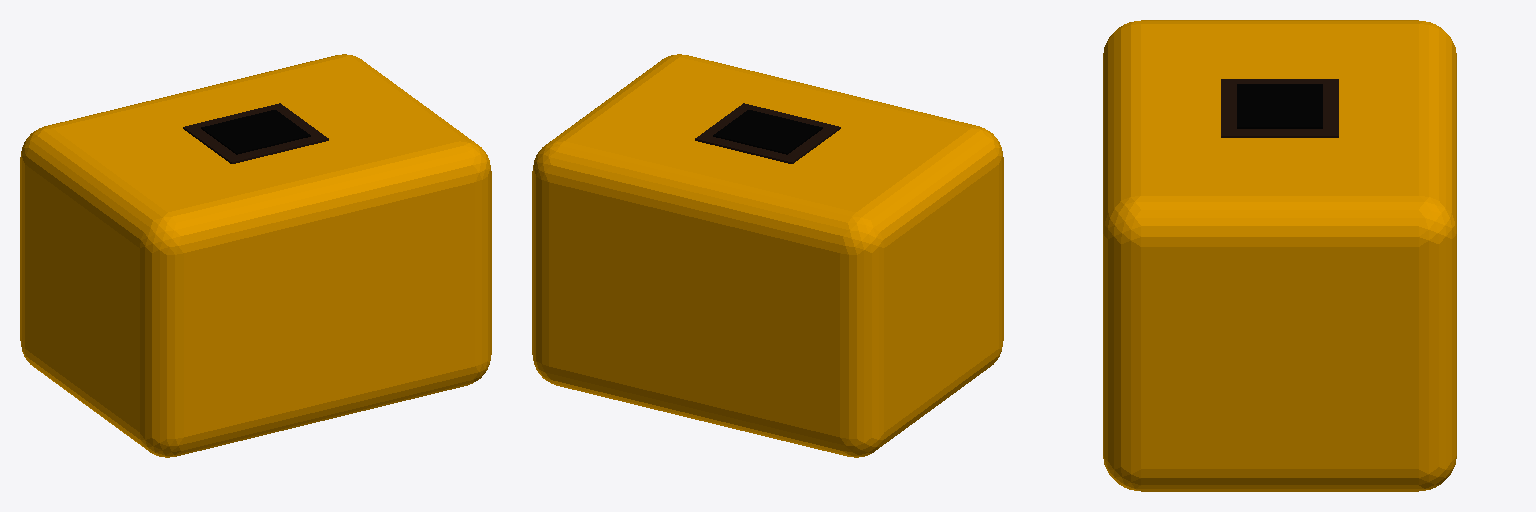
URDF robot description (key_stand):
<?xml version="1.0"?>
<!-- Generated by tools/build_assets.py - do not edit. -->
<robot name="key_stand">
  <link name="key_stand">
    <inertial><origin xyz="0.00000 0.00000 0.02500" rpy="0 0 0"/><mass value="0.6"/><inertia ixx="2.763e-04" ixy="0" ixz="0" iyy="4.062e-04" iyz="0" izz="4.325e-04"/></inertial>
    <visual><origin xyz="0 0 0" rpy="0 0 0"/><geometry><mesh filename="meshes/key_stand.obj" scale="1 1 1"/></geometry></visual>
    <visual><origin xyz="0 0 0" rpy="0 0 0"/><geometry><mesh filename="meshes/key_stand_bevel.obj" scale="1 1 1"/></geometry><material name="stand_bevel"><color rgba="0.16000 0.10000 0.07000 1.00000"/></material></visual>
    <visual><origin xyz="0 0 0" rpy="0 0 0"/><geometry><mesh filename="meshes/key_stand_hole.obj" scale="1 1 1"/></geometry><material name="stand_hole"><color rgba="0.03000 0.03000 0.03000 1.00000"/></material></visual>
    <collision><origin xyz="0.00000 0.00000 0.00100" rpy="0.00000 0.00000 0.00000"/><geometry><box size="0.07500 0.05500 0.00200"/></geometry></collision>
    <collision><origin xyz="0.02275 0.00000 0.02600" rpy="0.00000 0.00000 0.00000"/><geometry><box size="0.02950 0.05500 0.04800"/></geometry></collision>
    <collision><origin xyz="-0.02275 0.00000 0.02600" rpy="0.00000 0.00000 0.00000"/><geometry><box size="0.02950 0.05500 0.04800"/></geometry></collision>
    <collision><origin xyz="0.00000 0.01705 0.02600" rpy="0.00000 0.00000 0.00000"/><geometry><box size="0.01600 0.02090 0.04800"/></geometry></collision>
    <collision><origin xyz="0.00000 -0.01705 0.02600" rpy="0.00000 0.00000 0.00000"/><geometry><box size="0.01600 0.02090 0.04800"/></geometry></collision>
  </link>
</robot>

--- Facts derived from the render (not from the file) ---
The picture shows the robot from 3 angles, left to right: view 1: azimuth 30°, elevation 25°; view 2: azimuth 150°, elevation 25°; view 3: azimuth 270°, elevation 25°; orthographic projection.
Robot: key_stand — 1 links, 0 joints (none); root link key_stand; default pose: every joint at zero.
Visible links, largest first — view 1: key_stand; view 2: key_stand; view 3: key_stand.
Link boxes in pixels (left/top/right/bottom): key_stand: left=20, top=54, right=491, bottom=457; key_stand: left=532, top=54, right=1003, bottom=457; key_stand: left=1103, top=20, right=1456, bottom=491.
Size in the robot's own frame: 0.075 by 0.055 by 0.0507 metres.
3 mesh visuals loaded from 3 distinct referenced files (3 OBJ).
